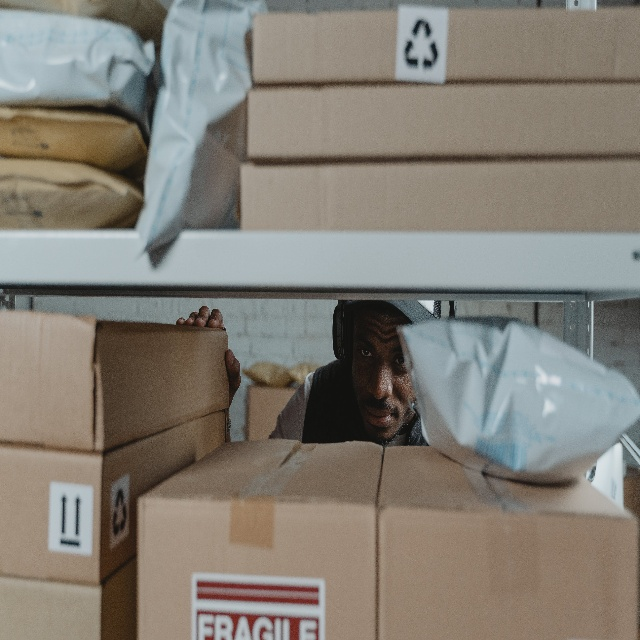Sin_guantes: (174, 303, 243, 412)
